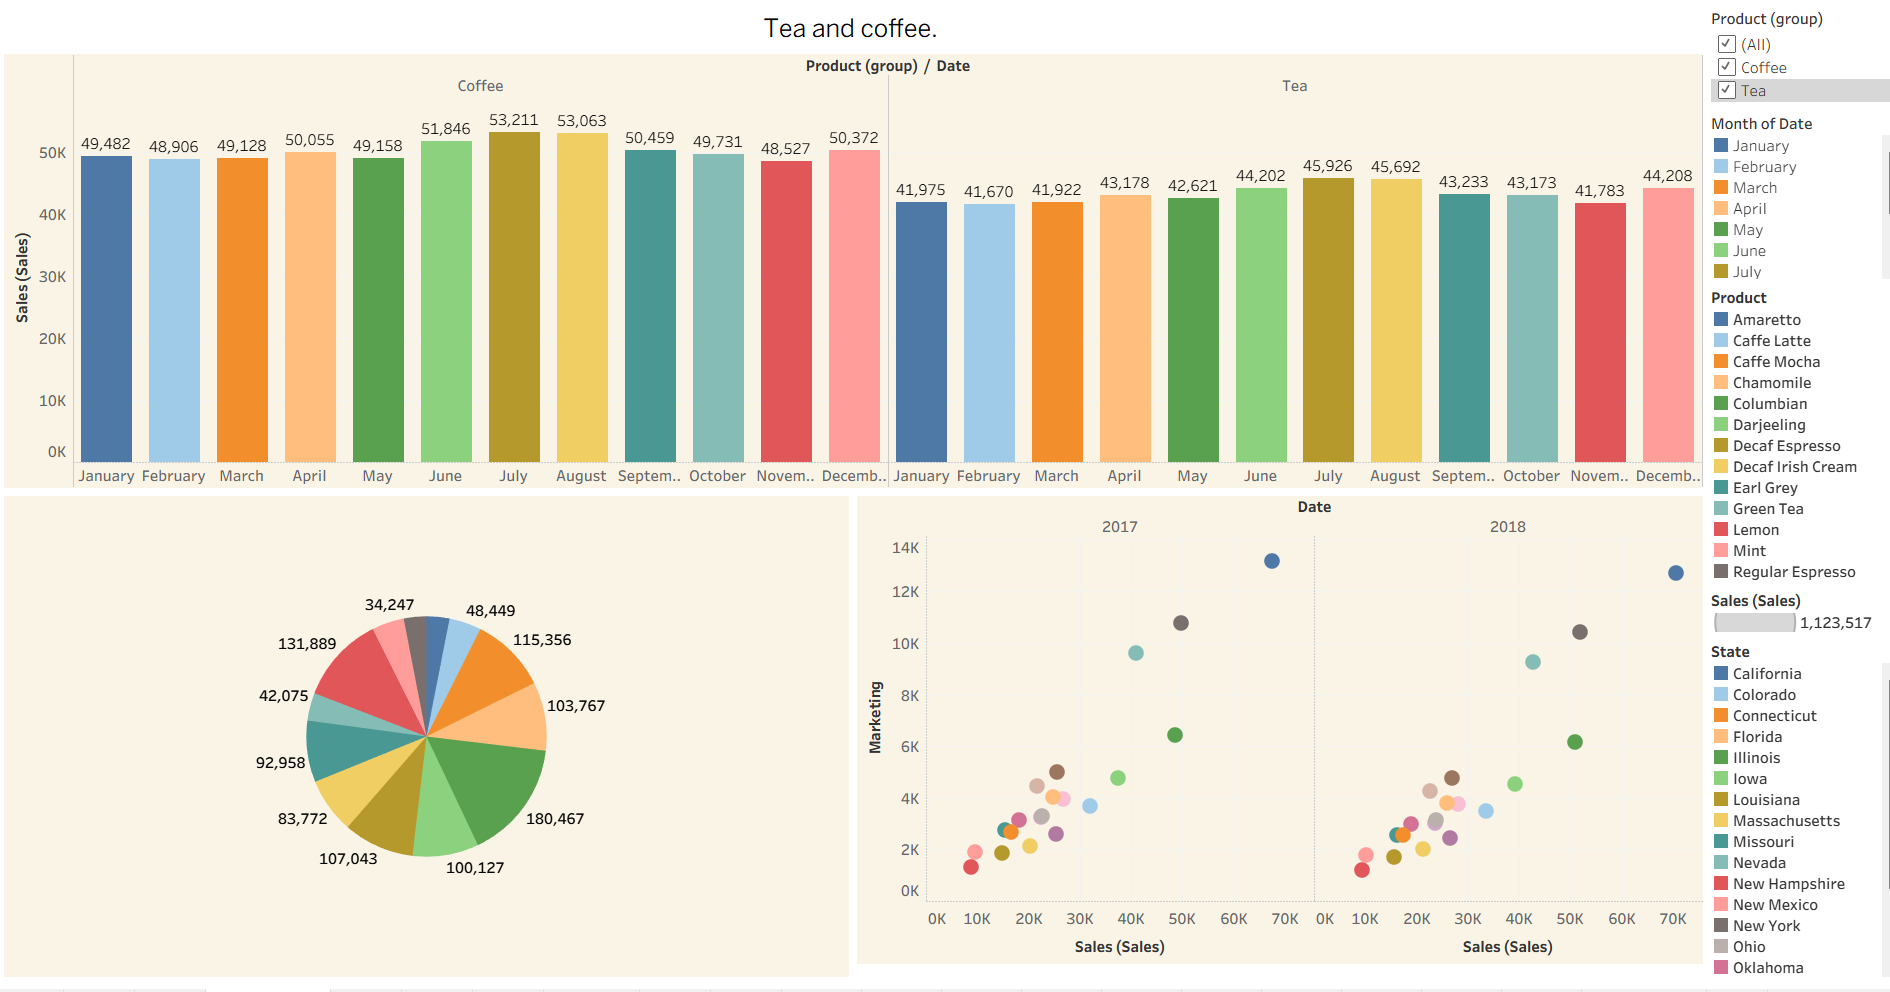

The dashboard page shown, as its layout file describes it:
{"tool":"tableau","page":{"name":"Dashboard 1","canvas":[1000,1000],"units":"permille","ordinal":0},"visuals":[{"type":"worksheet","title":"Sheet 1","mark":"Bar","rows":["Sales"],"cols":["Date"],"box":[4.8,9.3,871.5,490.7]},{"type":"filter","title":"Sheet 1","param":"[federated.1dl2pp11nyv2ye18078qu0smb27n].[Product (group)]","box":[876.3,9.3,118.9,122]},{"type":"legend","title":"Sheet 1","param":"[federated.1dl2pp11nyv2ye18078qu0smb27n].[mn:Date:ok]","box":[876.3,131.2,118.9,202.1]},{"type":"legend","title":"Sheet 2","param":"[federated.1dl2pp11nyv2ye18078qu0smb27n].[none:Product:nk]","box":[876.3,333.3,118.9,299.1]},{"type":"worksheet","title":"Sheet 2","mark":"Pie","box":[4.8,500,435.7,490.7]},{"type":"worksheet","title":"Sheet 3","mark":"Automatic","rows":["Marketing"],"cols":["Date","Sales"],"box":[440.5,500,435.8,490.7]},{"type":"legend","title":"Sheet 2","param":"[federated.1dl2pp11nyv2ye18078qu0smb27n].[sum:Sales:qk]","box":[876.3,632.4,118.9,59.2]},{"type":"legend","title":"Sheet 3","param":"[federated.1dl2pp11nyv2ye18078qu0smb27n].[none:State:nk]","box":[876.3,691.6,118.9,299.1]}]}

Visuals, with their boxes on the dashboard's canvas, which has no fixed pixel size, in thousandths of its width and height (x1, y1, x2, y2). These are canvas units, not pixel positions in the 1890x992 screenshot, which may show the page scaled, cropped or inside an application window:
"Sheet 1" worksheet (Bar marks): bbox=(5, 9, 876, 500)
"Sheet 1" filter: bbox=(876, 9, 995, 131)
"Sheet 1" legend: bbox=(876, 131, 995, 333)
"Sheet 2" legend: bbox=(876, 333, 995, 632)
"Sheet 2" worksheet (Pie marks): bbox=(5, 500, 440, 991)
"Sheet 3" worksheet: bbox=(440, 500, 876, 991)
"Sheet 2" legend: bbox=(876, 632, 995, 692)
"Sheet 3" legend: bbox=(876, 692, 995, 991)
